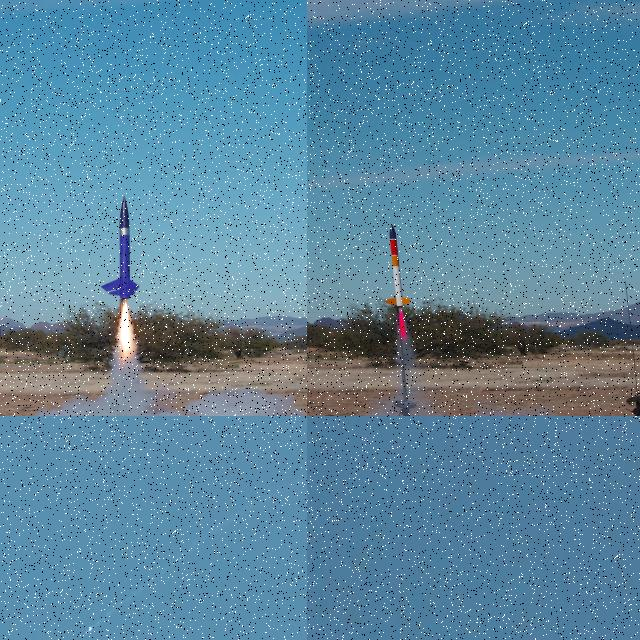Rocket: (100, 195, 140, 300), (386, 224, 411, 308), (86, 626, 92, 634)
